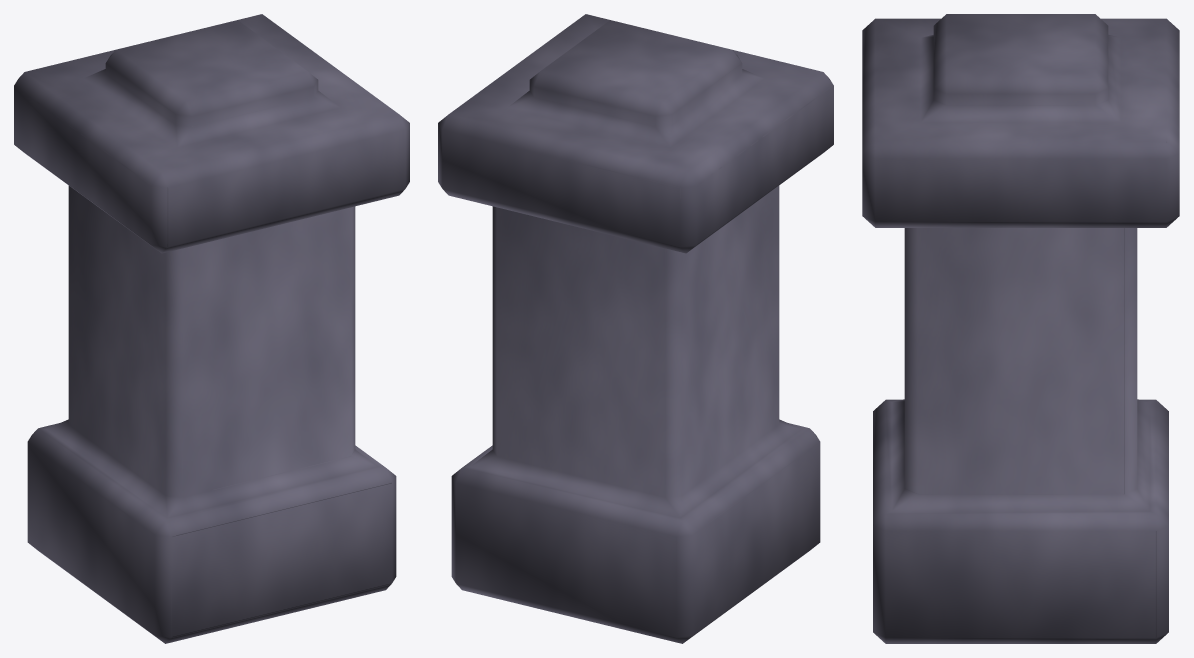
File: WallColumn.glb
3 views of the same model, side by side, from view 1: azimuth 30°, elevation 25°; view 2: azimuth 150°, elevation 25°; view 3: azimuth 270°, elevation 25° (orthographic). The views are drawn at different scales.
Visible parts, largest first — view 1: WallColumn; view 2: WallColumn; view 3: WallColumn.
Part boxes in pixels (left/top/right/bottom): WallColumn: left=14, top=14, right=409, bottom=643; WallColumn: left=438, top=14, right=833, bottom=643; WallColumn: left=862, top=14, right=1179, bottom=643.
Bounding box in the file's own units: 2.46 × 4.63 × 2.46.
1 material, 1 textured.
